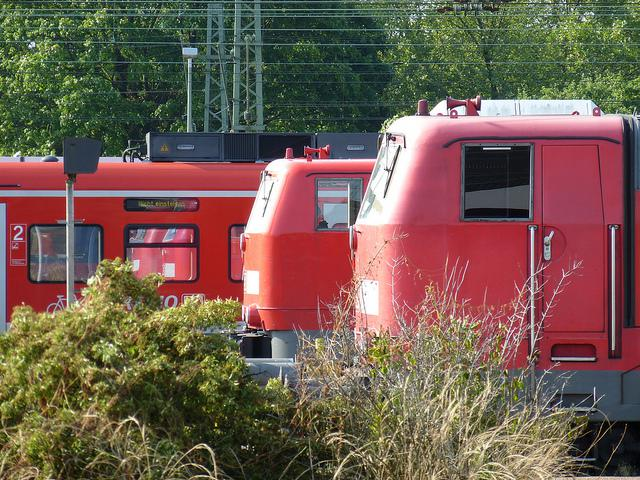Train: (350, 94, 640, 474), (0, 159, 271, 336), (238, 143, 381, 381)
